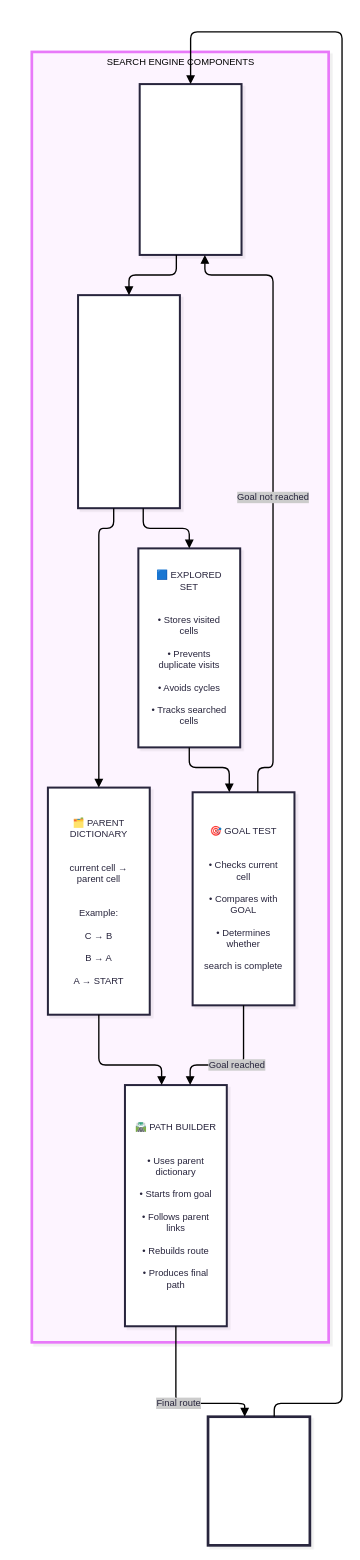
Image size: 360x1560. Some labels were removed from this diagram. Here are the shapes that lost their labels. From the top down, the centre of each, then its label:
(191,170): 📦 FRONTIER BFS → QUEUE FIFO order DFS → STACK LIFO order
(130,403): 🔗 NEIGHBOUR EXPANSION • Up • Down • Left • Right • Checks valid cells
(260,1482): 🔍 SEARCH ENGINE Controls BFS / DFS graph traversal
